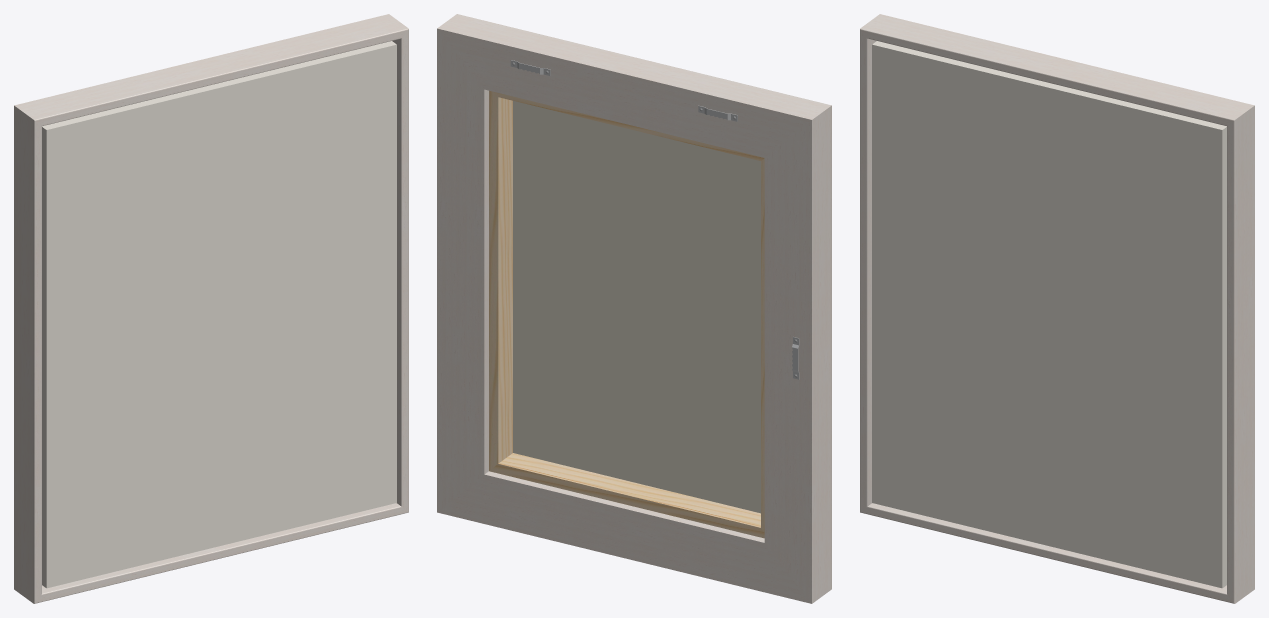
The model's file is delivery.glb.
The picture shows the model from 3 angles, left to right: view 1: azimuth 30°, elevation 25°; view 2: azimuth 150°, elevation 25°; view 3: azimuth 330°, elevation 25°; orthographic projection.
Visible parts, largest first — view 1: Canvas artwork front, Tray approved profile 0; view 2: Tray approved profile 0, Canvas linen reverse, Stretcher top, Sawtooth hanger 0; view 3: Canvas artwork front, Tray approved profile 0.
Part boxes in pixels (x1,y1,x2,y2): Canvas artwork front: (42, 41, 396, 588); Tray approved profile 0: (14, 14, 408, 603); Tray approved profile 0: (437, 14, 831, 603); Canvas linen reverse: (513, 101, 760, 513); Stretcher top: (489, 90, 764, 538); Sawtooth hanger 0: (510, 60, 799, 379); Canvas artwork front: (872, 41, 1226, 588); Tray approved profile 0: (860, 14, 1254, 603).
Bounding box in the file's own units: 0.428 × 0.528 × 0.0424.
Materials: 7 (3 with a texture image).
